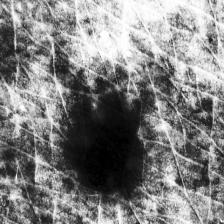Benign Marking or Mole: (66, 101, 144, 193)
